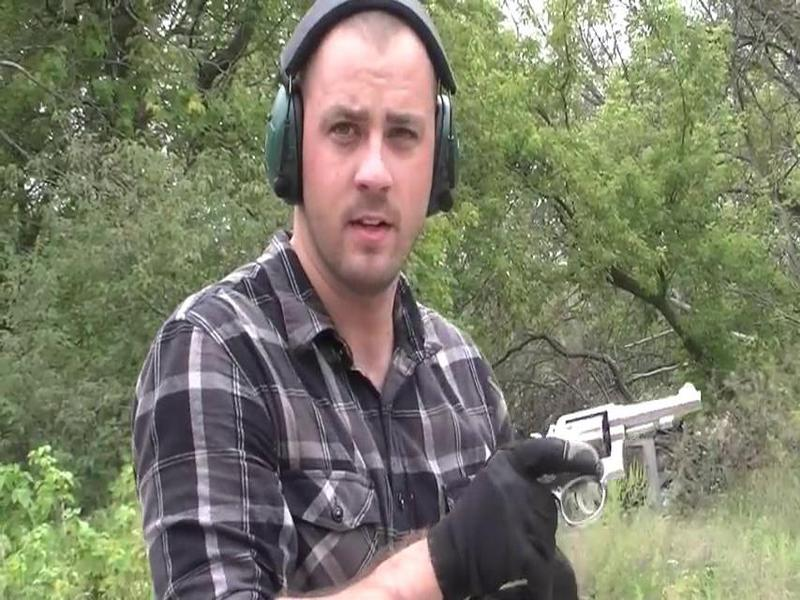Revolver: (527, 374, 726, 532)
